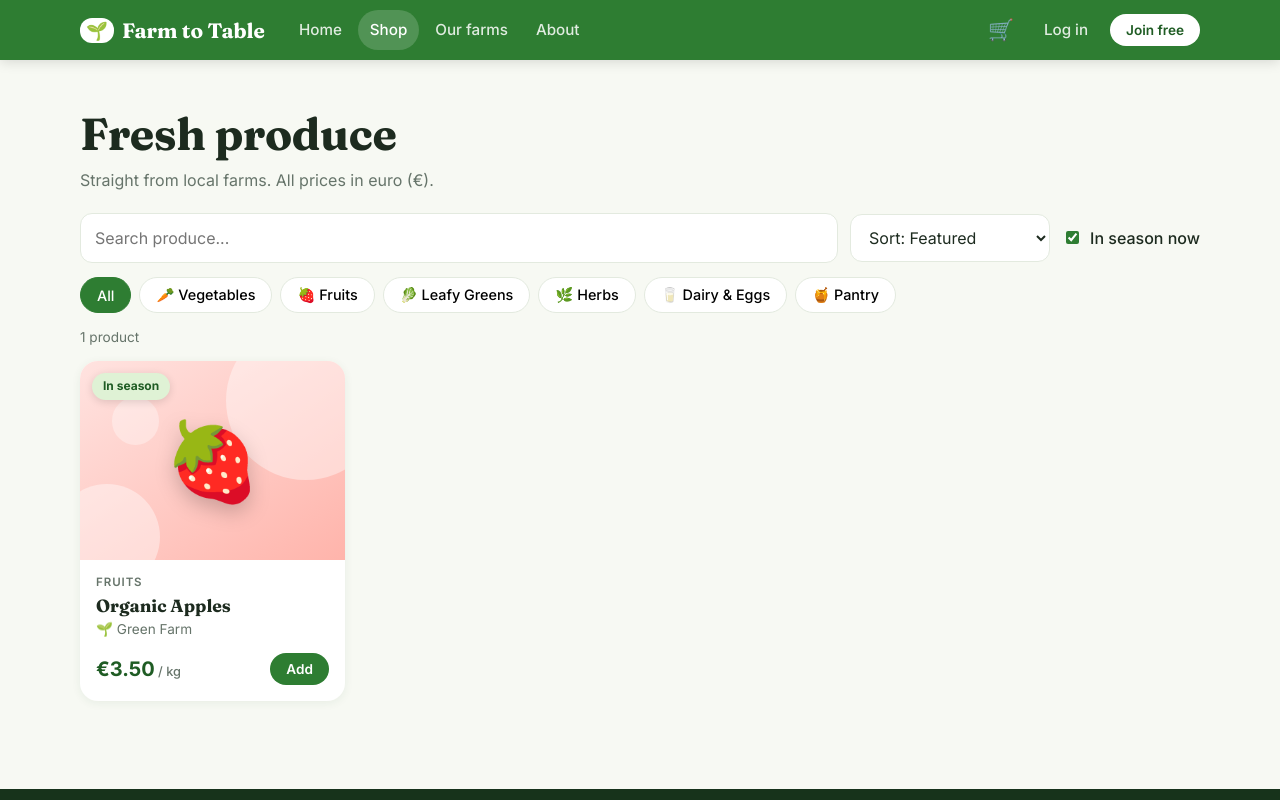
Test: Farm-to-Table Frontend Tests › 5. Filters out-of-season products in the catalogue
The image size is (1280, 800).
Expected: the link "Organic Apples" is shown, top-left (96, 595), bottom-right (231, 616)
Expected: the text "Summer Peaches" is not shown
Click the checkbox labelled "In season now" at (1072, 238), box top-left (1066, 231), bottom-right (1079, 244)
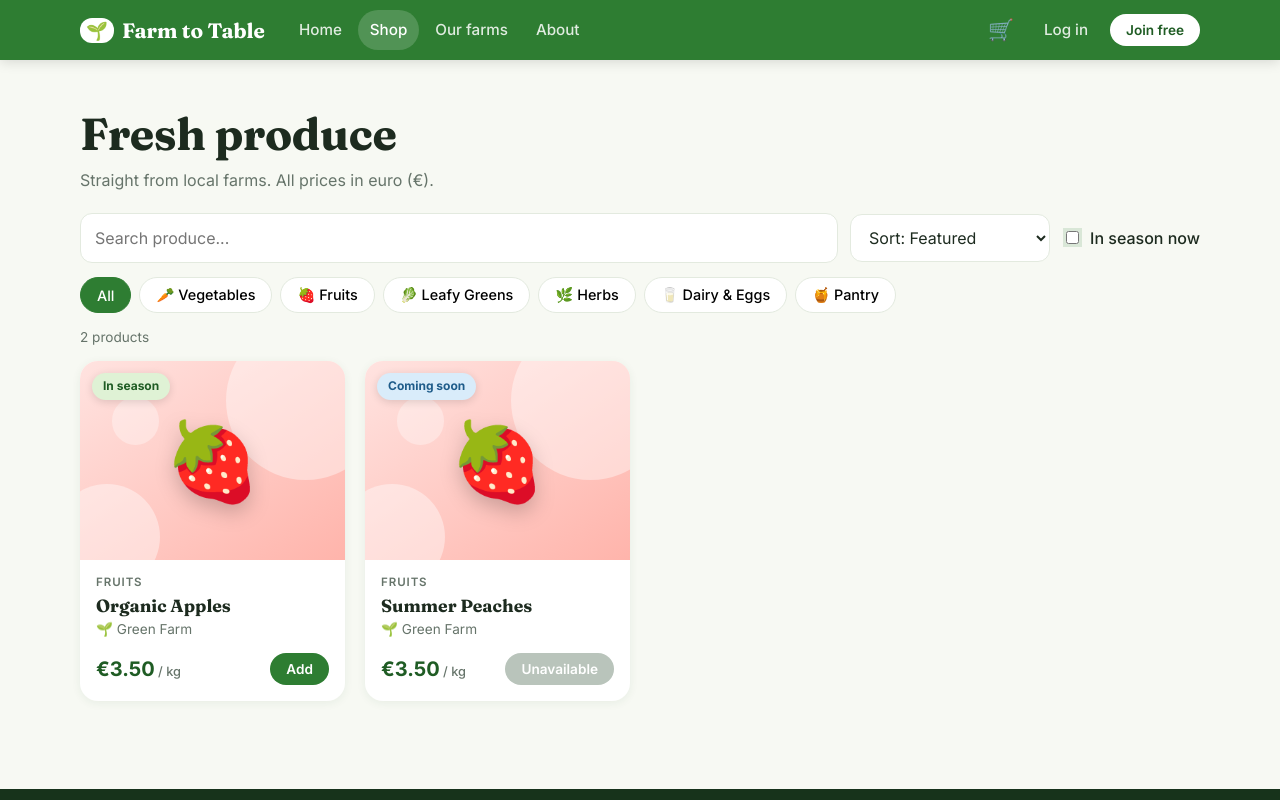
Now the link "Summer Peaches" is shown, box top-left (381, 595), bottom-right (532, 616)
Now the button "Unavailable" is disabled, box top-left (505, 653), bottom-right (614, 685)
